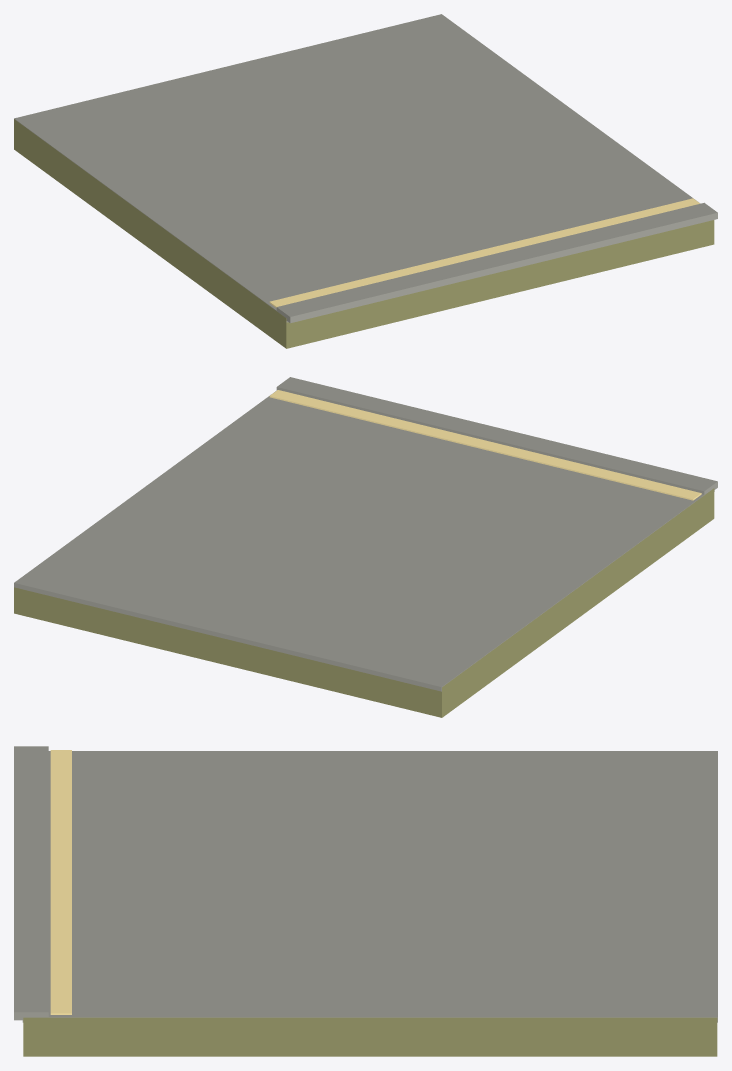
File: SM_KitAnden_F11_v4_LOD1.fbx
The picture shows the model from 3 angles, top to bottom: view 1: azimuth 30°, elevation 25°; view 2: azimuth 150°, elevation 25°; view 3: azimuth 270°, elevation 25°; orthographic projection. The views are drawn at different scales.
Visible parts, largest first — view 1: SM_kit_anden_v4_LOD1; view 2: SM_kit_anden_v4_LOD1; view 3: SM_kit_anden_v4_LOD1.
Boxes of the visible parts, x1,y1,x2,y2 form: SM_kit_anden_v4_LOD1: (14,14,717,348); SM_kit_anden_v4_LOD1: (14,377,717,717); SM_kit_anden_v4_LOD1: (14,746,717,1056).
Bounding box in the file's own units: 9.98 × 0.77 × 11.16.
